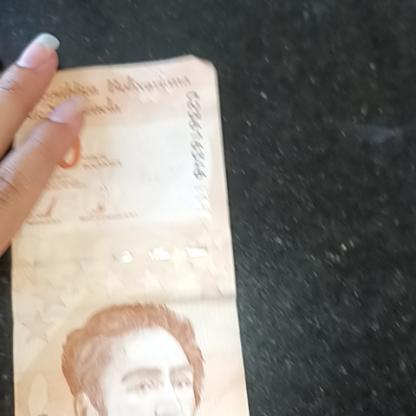twenty-front-vef: (0, 54, 258, 416)
